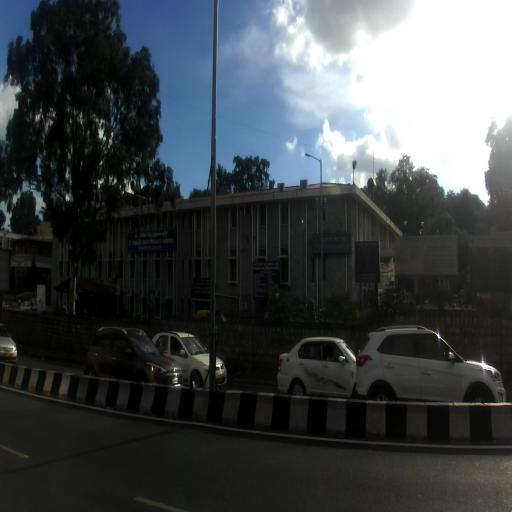street_light_0: (305, 152, 322, 168), (352, 160, 357, 186)
